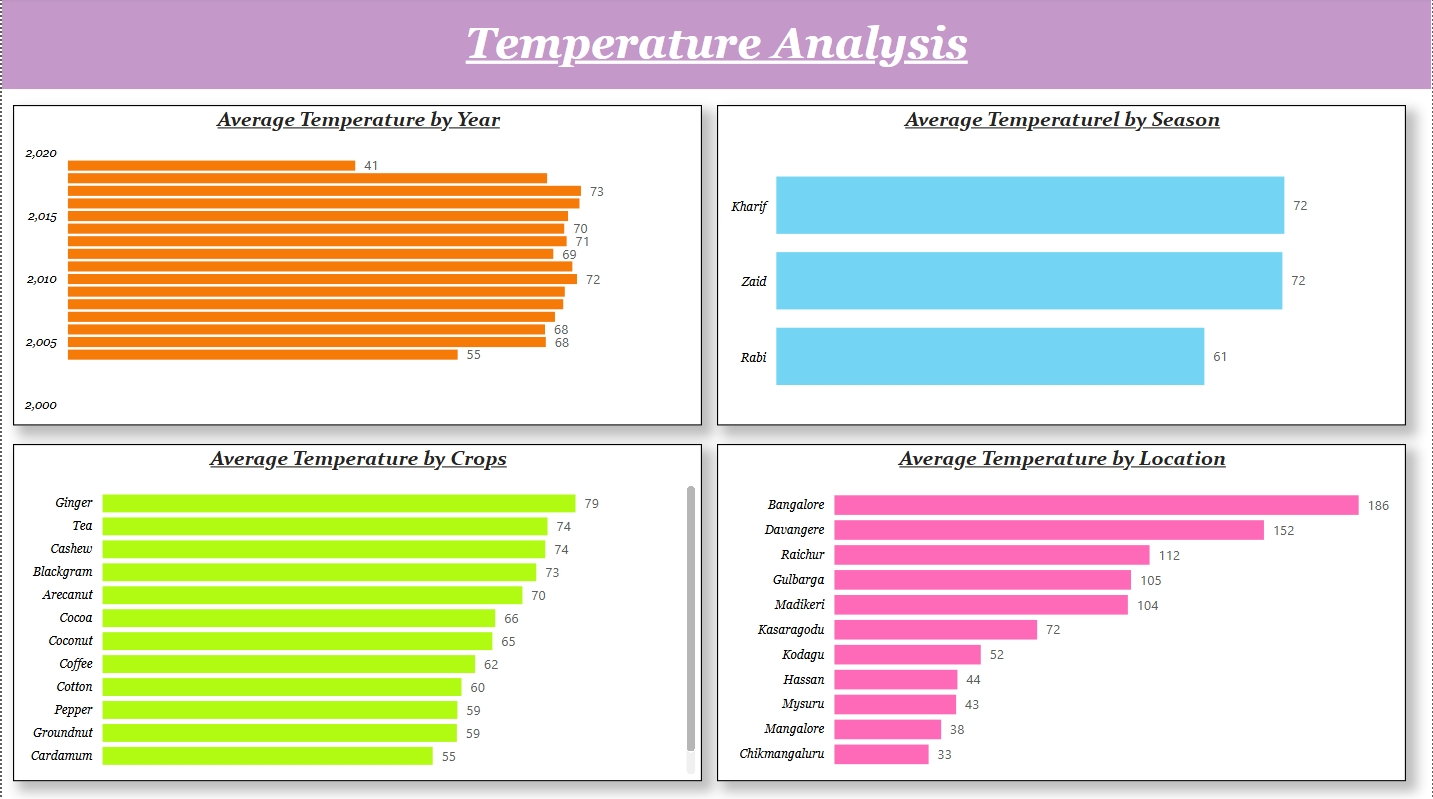

What the dashboard file says about the page in this screenshot:
{"tool":"powerbi","page":{"name":"Temperature Analysis","canvas":[1280,720],"ordinal":1},"visuals":[{"type":"shape","box":[0,0,1280,81.7],"z":0},{"type":"barChart","title":"Average Temperature by Year","fields":{"Category":["AGRICULTURE.YEAR"],"Y":["Avg(AGRICULTURE.TEMPERATURE)"]},"box":[10.2,95.6,617.1,286.7],"z":1000},{"type":"barChart","title":"Average Temperaturel by Season","fields":{"Category":["AGRICULTURE.SEASON"],"Y":["Avg(AGRICULTURE.TEMPERATURE)"]},"box":[640.5,95.6,617.1,286.7],"z":2000},{"type":"barChart","title":"Average Temperature by Crops","fields":{"Category":["AGRICULTURE.CROPS"],"Y":["Avg(AGRICULTURE.TEMPERATURE)"]},"box":[10.2,399.6,617.1,302],"z":3000},{"type":"barChart","title":"Average Temperature by Location","fields":{"Category":["AGRICULTURE.LOCATION"],"Y":["Avg(AGRICULTURE.TEMPERATURE)"]},"box":[640.5,399.6,617.1,302],"z":4000}]}

Visuals, with their boxes in screenshot pixels (x1, y1, x2, y2), scaled from the page's 1280x720 canvas onto the 1433x799 screenshot:
shape: (x1=0, y1=0, x2=1432, y2=91)
"Average Temperature by Year" barChart: (x1=11, y1=106, x2=702, y2=424)
"Average Temperaturel by Season" barChart: (x1=717, y1=106, x2=1408, y2=424)
"Average Temperature by Crops" barChart: (x1=11, y1=443, x2=702, y2=779)
"Average Temperature by Location" barChart: (x1=717, y1=443, x2=1408, y2=779)
